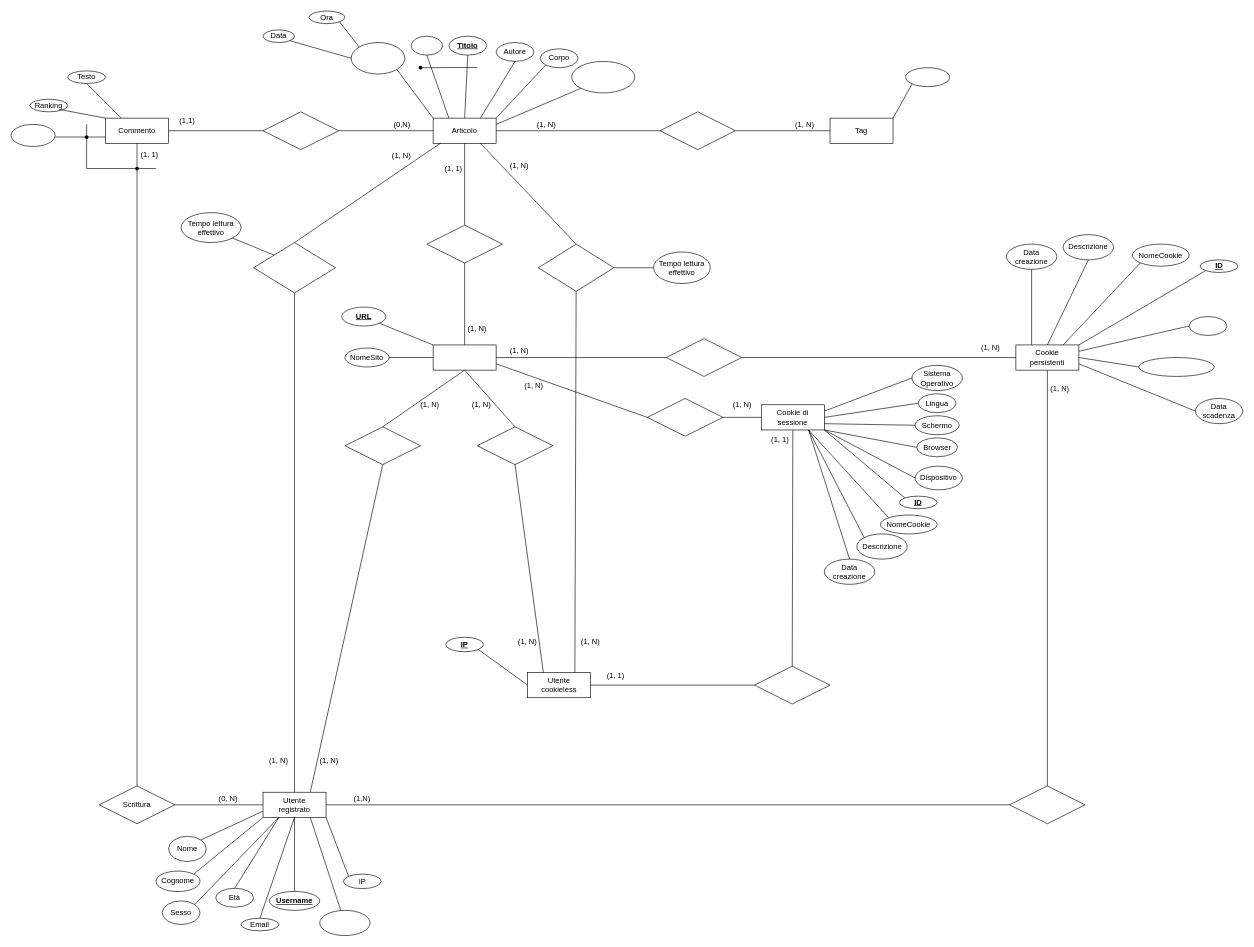
This 1254x947 diagram has some shape labels left out. Each missing label, with the centre of its shape:
"Accesso anonimo" belongs at (x=515, y=445).
"Accesso registrato" belongs at (x=382, y=445).
"Assegnazione" belongs at (x=792, y=685).
"Contenuto" belongs at (x=464, y=244).
"Data di scrittura" belongs at (x=32, y=135).
"Geolocalizzazione" belongs at (x=1176, y=366).
"Indice" belongs at (x=697, y=130).
"Keywords" belongs at (x=927, y=77).
"Lettura Anonima" belongs at (x=576, y=267).
"Lettura Utente Registrato" belongs at (x=294, y=267).
"Link" belongs at (x=426, y=45).
"Numero di commenti" belongs at (x=344, y=923).
"Possiede anonimo" belongs at (x=685, y=417).
"Possiede registrato" belongs at (x=704, y=357).
"Profilazione" belongs at (x=1047, y=804).
"Recensione" belongs at (x=300, y=130).
"Sito" belongs at (x=464, y=357).
"Tema" belongs at (x=1207, y=325).
"Tempo lettura stimato" belongs at (x=603, y=77).
"Timestamp creazione" belongs at (x=378, y=58).
